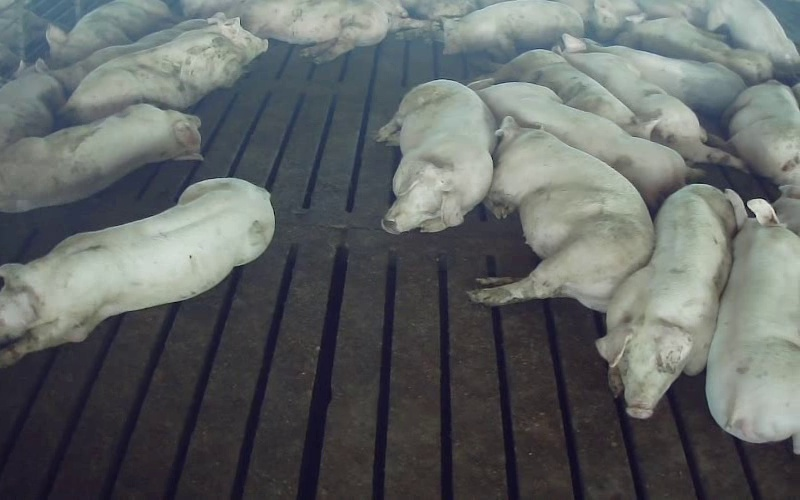pig: (0, 179, 274, 366), (470, 117, 652, 311), (468, 78, 687, 211), (559, 35, 744, 168), (706, 190, 799, 453), (62, 18, 267, 123), (0, 104, 200, 211), (376, 80, 495, 233), (493, 49, 651, 138), (588, 46, 745, 116), (614, 15, 772, 84), (443, 0, 583, 61), (46, 0, 173, 67), (722, 81, 799, 184), (0, 59, 64, 149)
